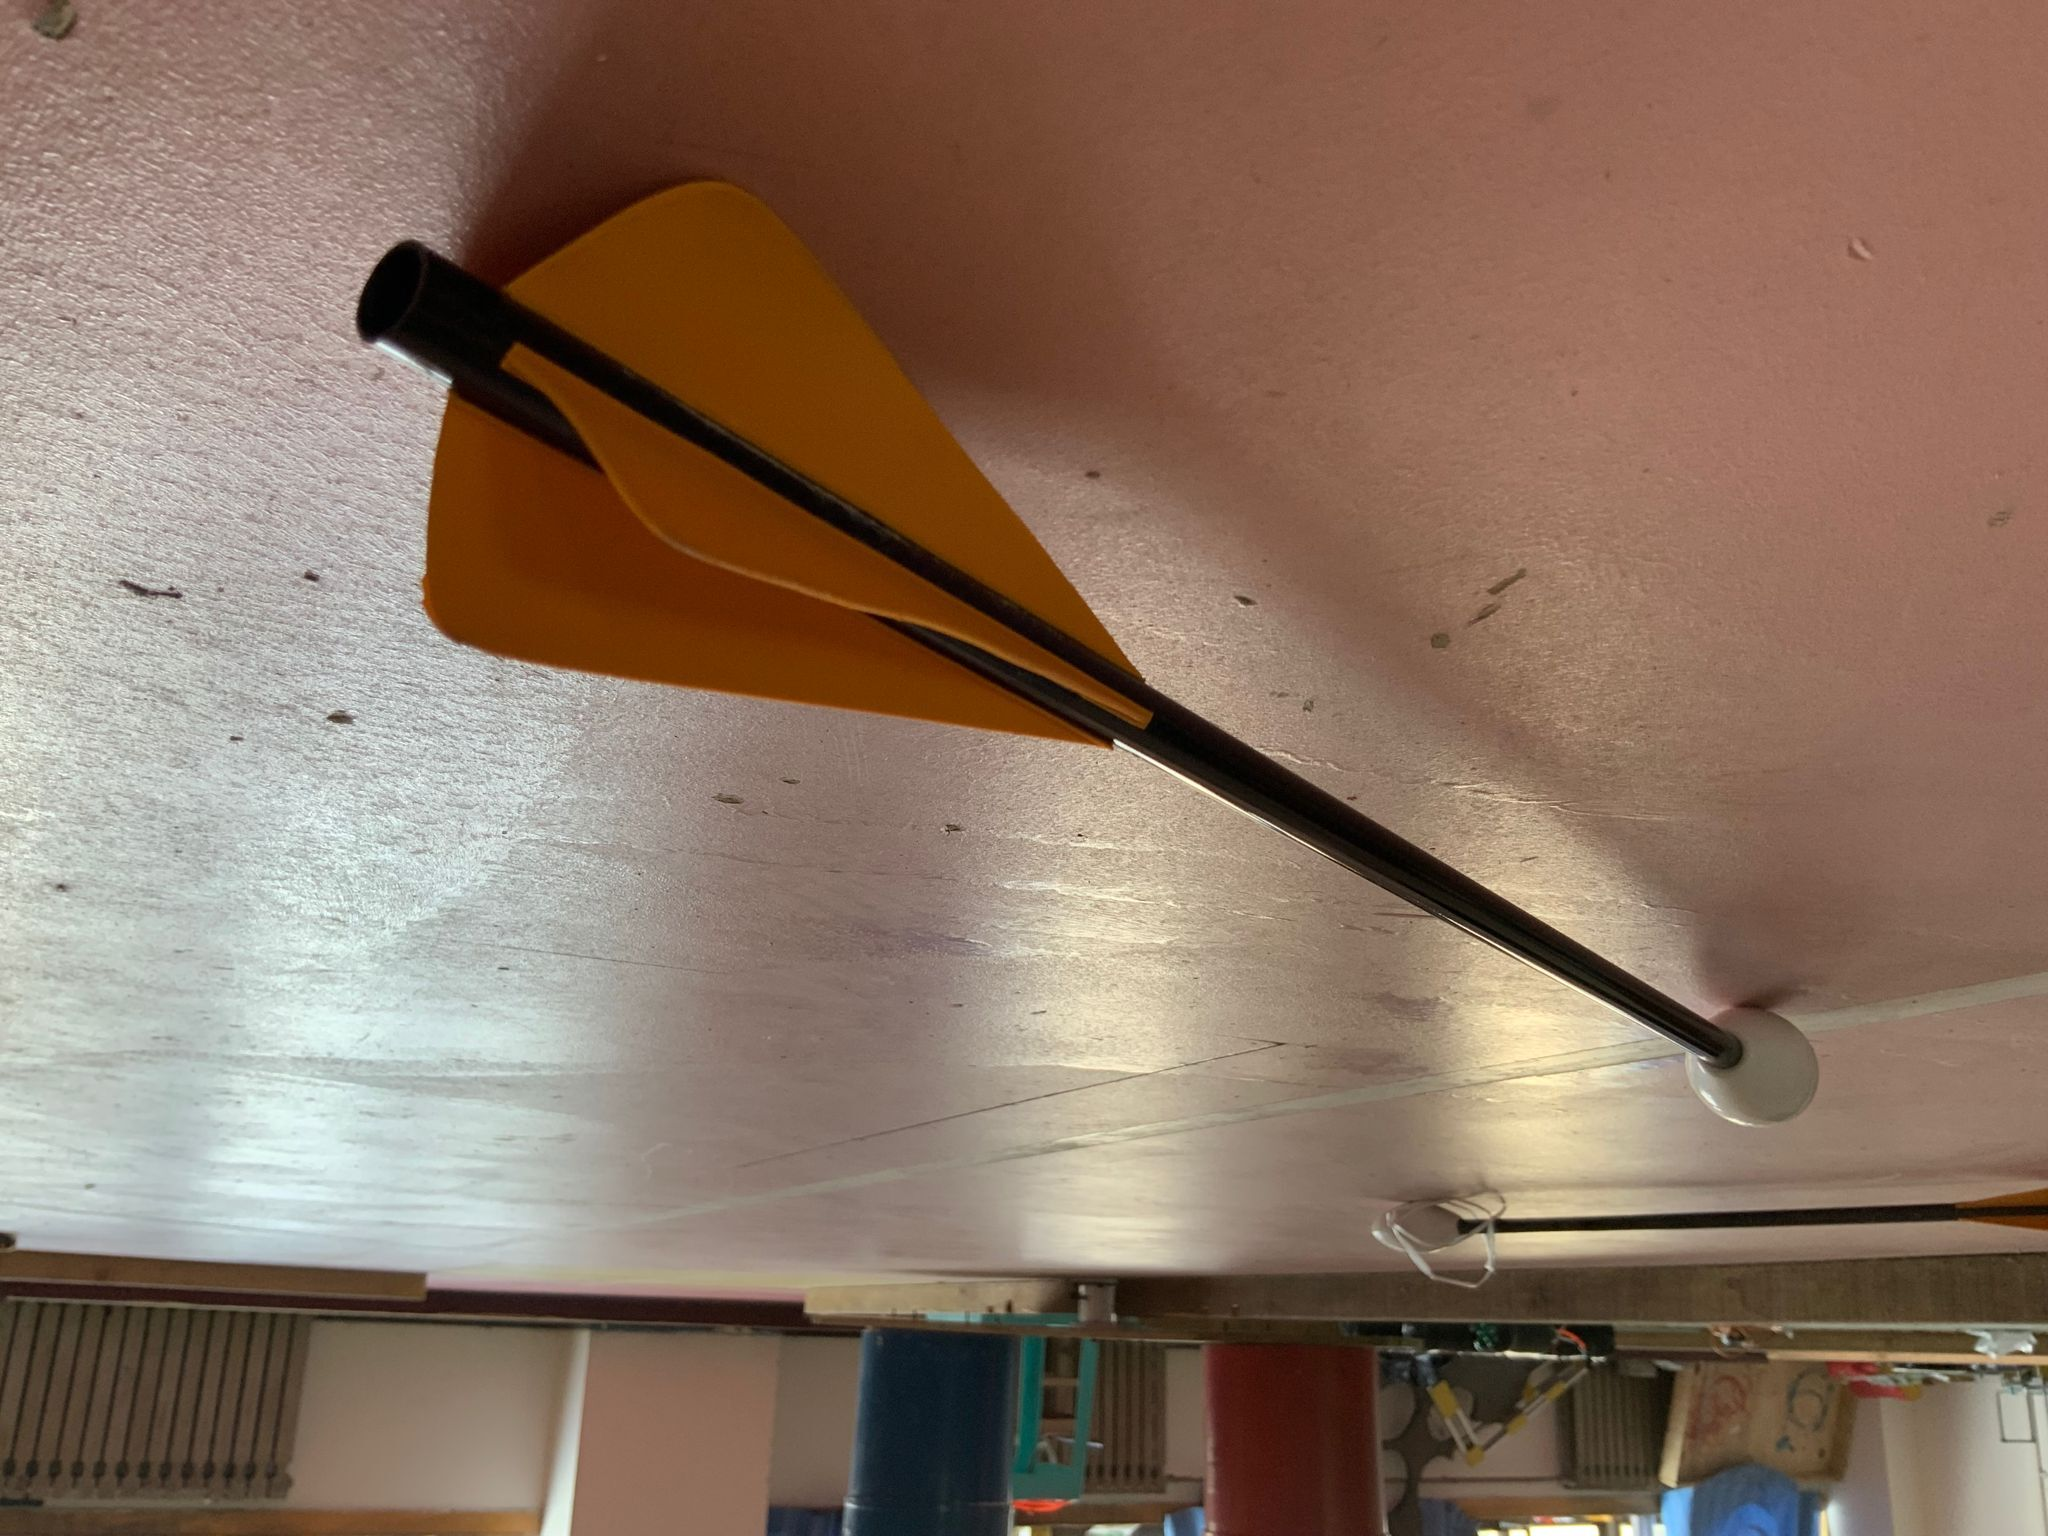arrow: (348, 179, 1822, 1131)
arrowFront: (1684, 1004, 1822, 1134)
